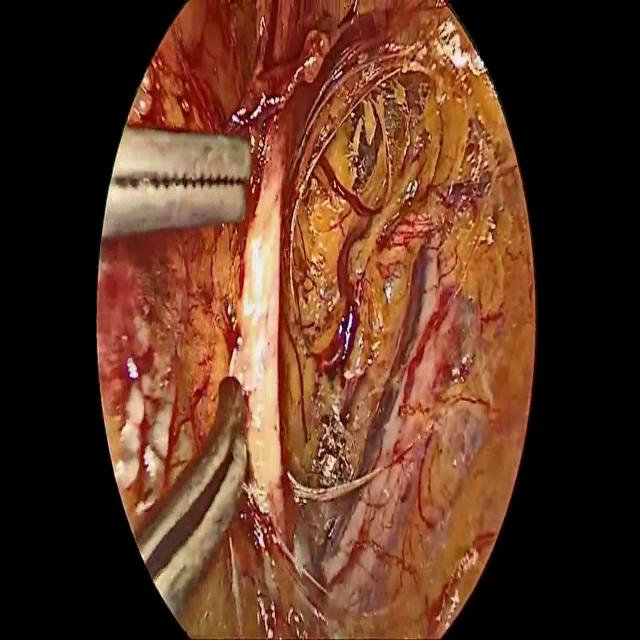surgical-area: (96, 0, 536, 639)
surgical-tool: (134, 373, 249, 620), (102, 124, 254, 238)
